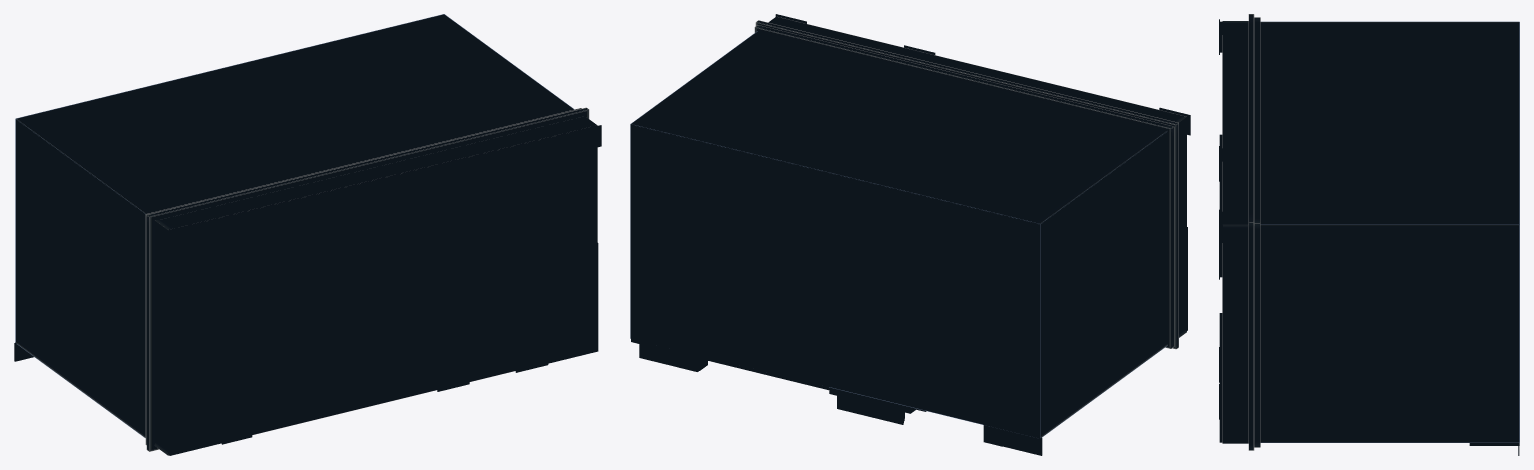
3 renders of one model, left to right at view 1: azimuth 30°, elevation 25°; view 2: azimuth 150°, elevation 25°; view 3: azimuth 270°, elevation 25°, orthographic. The views are drawn at different scales.
Visible parts, largest first — view 1: Object.12, Object.20, Object.56, Object.6, Object.2, Object.73, Object.80, Object.78, Object.16, Object.58, Object.70, Object.68 (+7 smaller); view 2: Object.12, Object.56, Object.16, Object.20, Object.74, Object.78, Object.80, Object.79, Object.18, Object.36, Object.38; view 3: Object.12, Object.56, Object.16, Object.20, Object.80, Object.78, Object.6, Object.79, Object.81.
Part boxes in pixels (x1=…): Object.12: x1=16, y1=14, x2=573, y2=437; Object.20: x1=147, y1=108, x2=588, y2=451; Object.56: x1=154, y1=115, x2=597, y2=455; Object.6: x1=531, y1=232, x2=598, y2=363; Object.2: x1=168, y1=324, x2=221, y2=455; Object.73: x1=323, y1=252, x2=437, y2=326; Object.80: x1=146, y1=107, x2=589, y2=451; Object.78: x1=15, y1=14, x2=574, y2=437; Object.16: x1=146, y1=108, x2=581, y2=444; Object.58: x1=318, y1=251, x2=425, y2=315; Object.70: x1=515, y1=344, x2=548, y2=372; Object.68: x1=434, y1=158, x2=467, y2=186; Object.12: x1=630, y1=31, x2=1167, y2=438; Object.56: x1=768, y1=16, x2=1186, y2=337; Object.16: x1=755, y1=25, x2=1173, y2=348; Object.20: x1=756, y1=20, x2=1178, y2=348; Object.74: x1=837, y1=389, x2=904, y2=424; Object.78: x1=630, y1=31, x2=1167, y2=437; Object.80: x1=755, y1=20, x2=1178, y2=349; Object.79: x1=754, y1=25, x2=1174, y2=348; Object.18: x1=631, y1=338, x2=830, y2=390; Object.36: x1=1002, y1=429, x2=1042, y2=455; Object.38: x1=639, y1=344, x2=679, y2=367; Object.12: x1=1260, y1=22, x2=1519, y2=442; Object.56: x1=1222, y1=21, x2=1248, y2=443; Object.16: x1=1254, y1=17, x2=1260, y2=447; Object.20: x1=1249, y1=14, x2=1253, y2=450; Object.80: x1=1248, y1=14, x2=1254, y2=450; Object.78: x1=1261, y1=21, x2=1519, y2=442; Object.6: x1=1219, y1=313, x2=1222, y2=442; Object.79: x1=1254, y1=17, x2=1260, y2=447; Object.81: x1=1222, y1=35, x2=1222, y2=443.
Bounding box in the file's own units: 5107879 × 2820760 × 3113398.
Materials: 4 (2 with a texture image).
